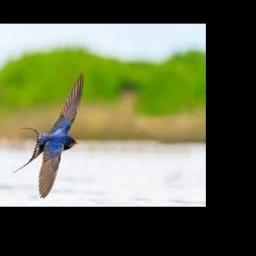Swallow: (13, 71, 83, 198)
